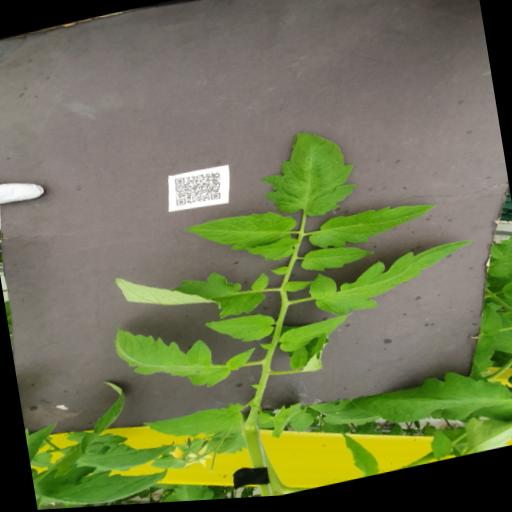Healthy: (110, 298, 258, 407), (349, 364, 512, 458), (306, 243, 482, 325), (254, 125, 360, 230), (32, 447, 171, 511), (304, 200, 439, 258), (180, 206, 297, 264), (142, 402, 248, 449), (277, 316, 356, 358), (204, 311, 276, 353), (298, 241, 376, 279), (245, 238, 301, 269), (286, 349, 308, 375)
